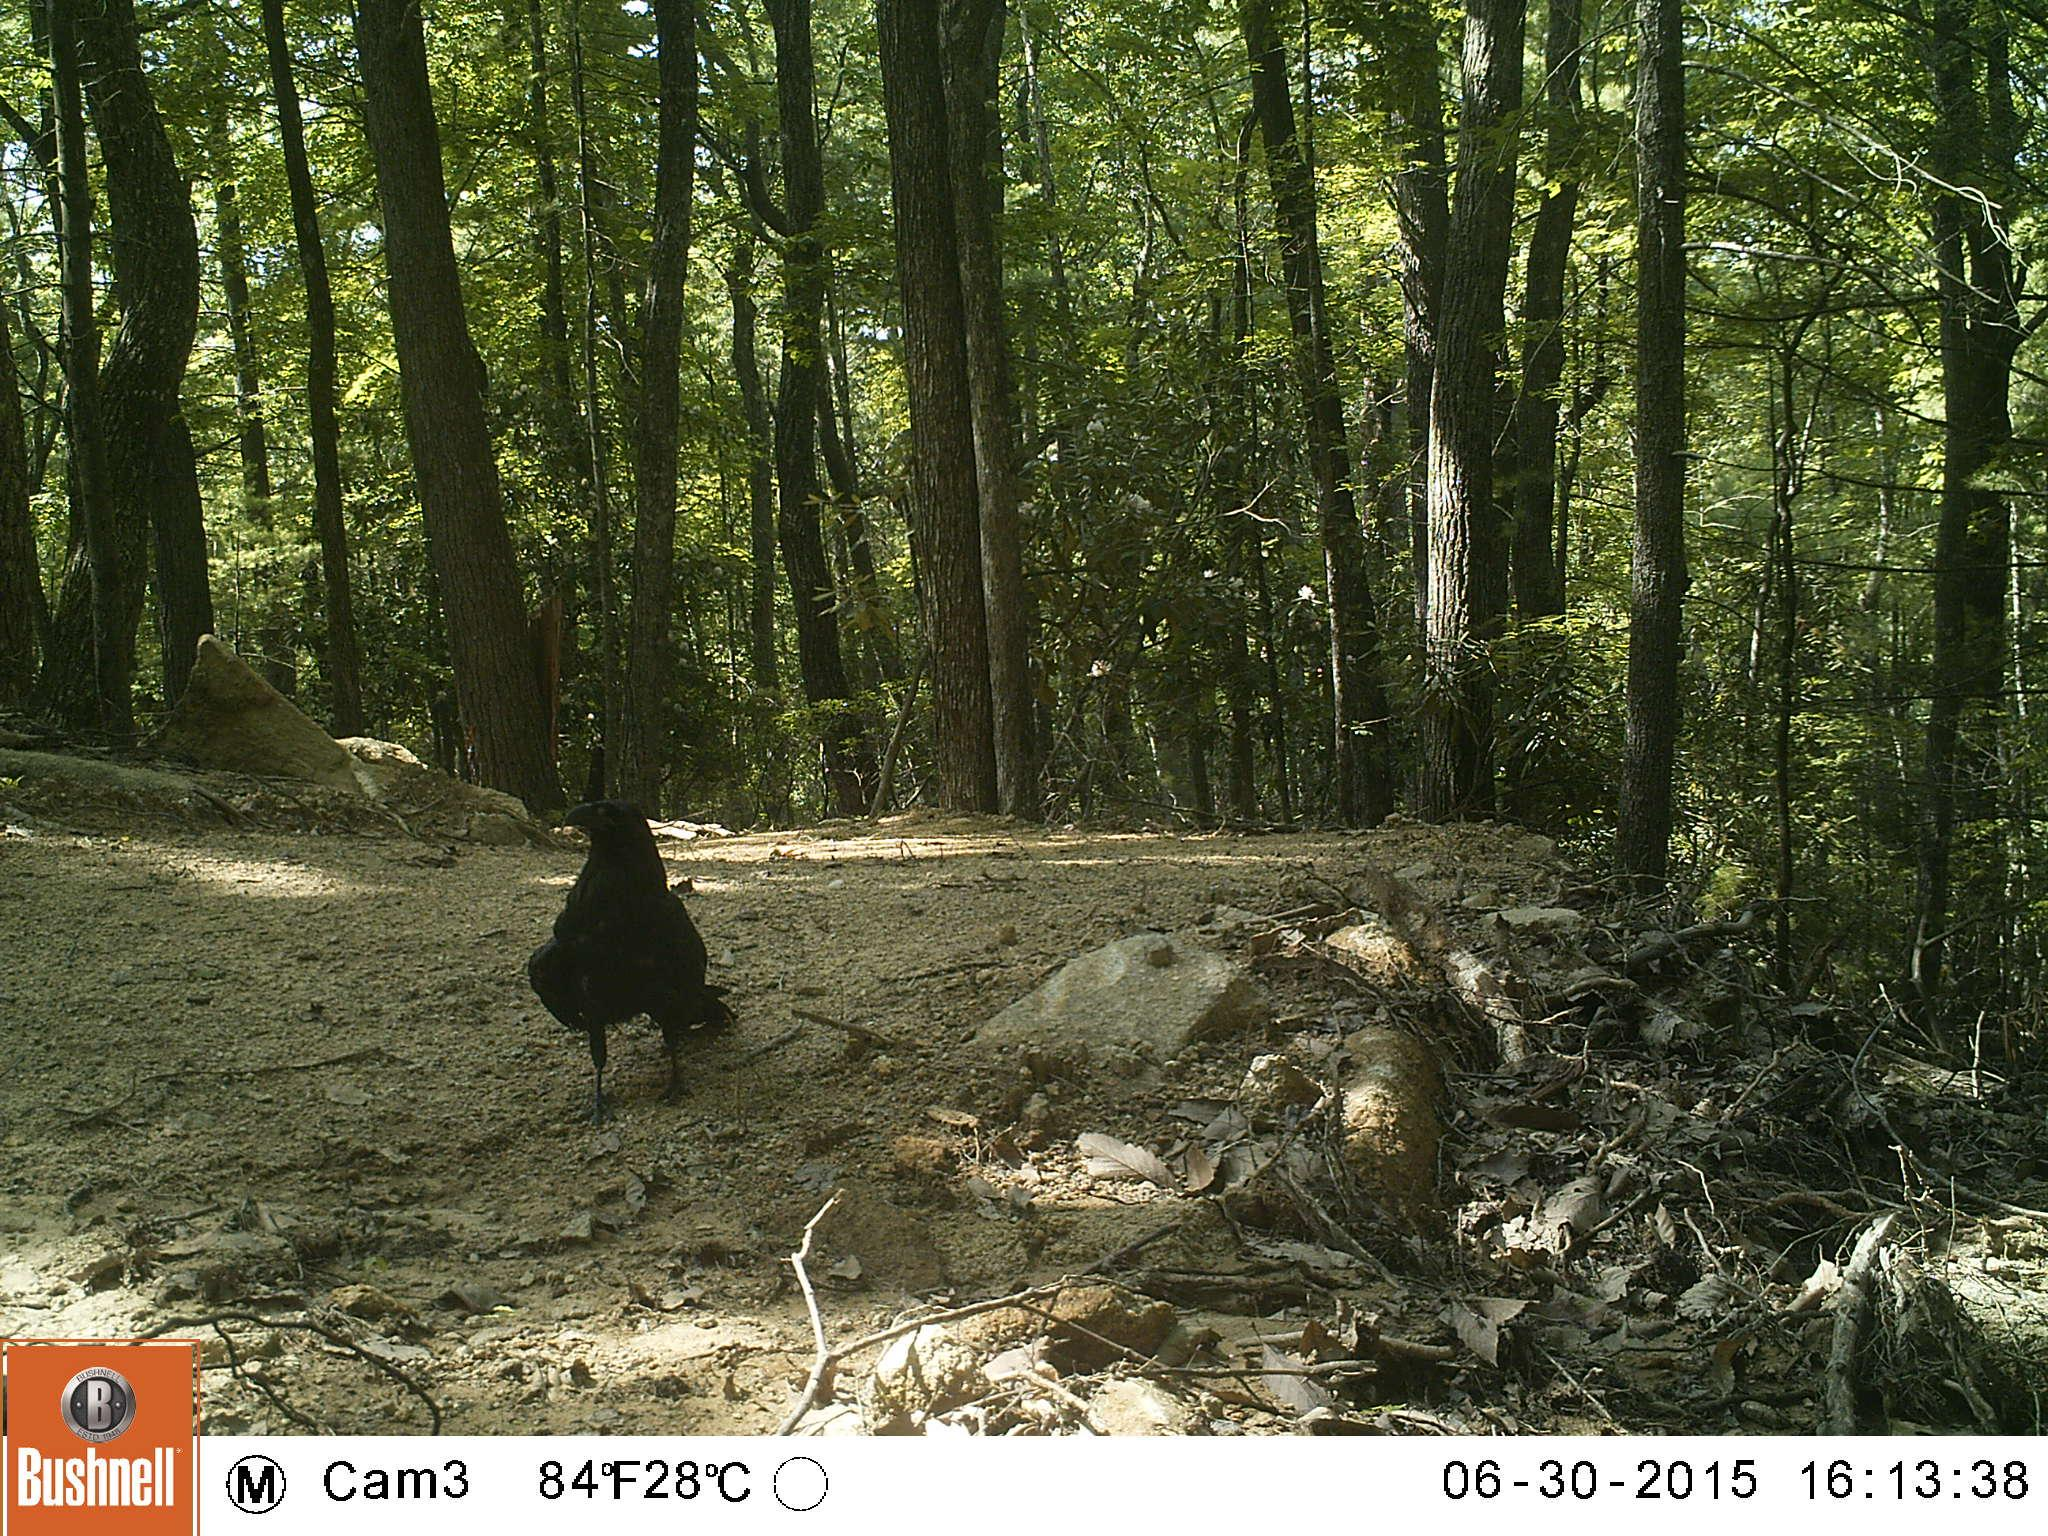Animal: (529, 800, 719, 1120)
